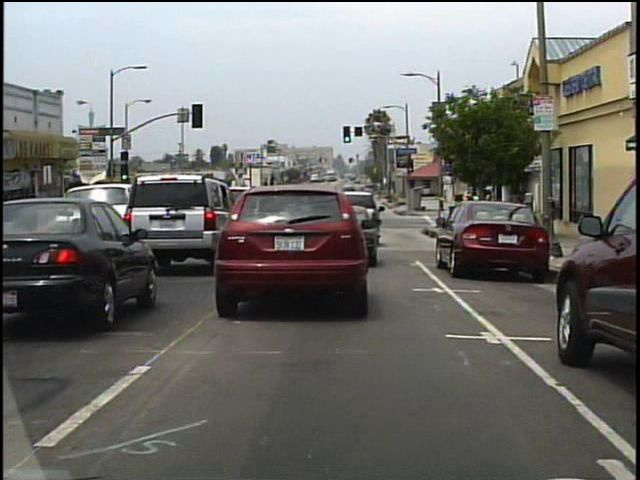person: (475, 194, 489, 239), (462, 193, 474, 239)
